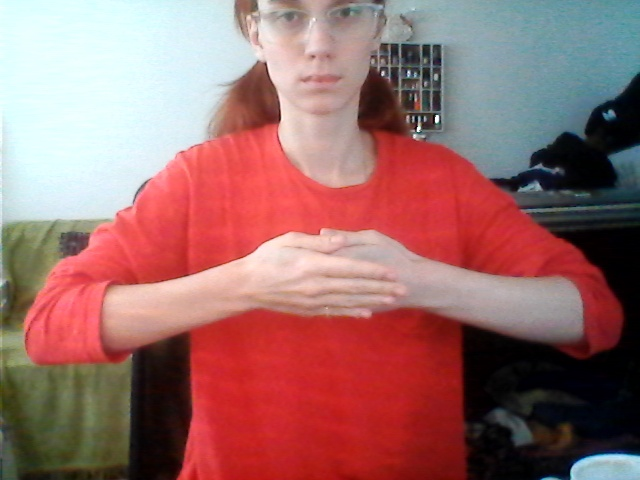dvere: (240, 216, 420, 329)
